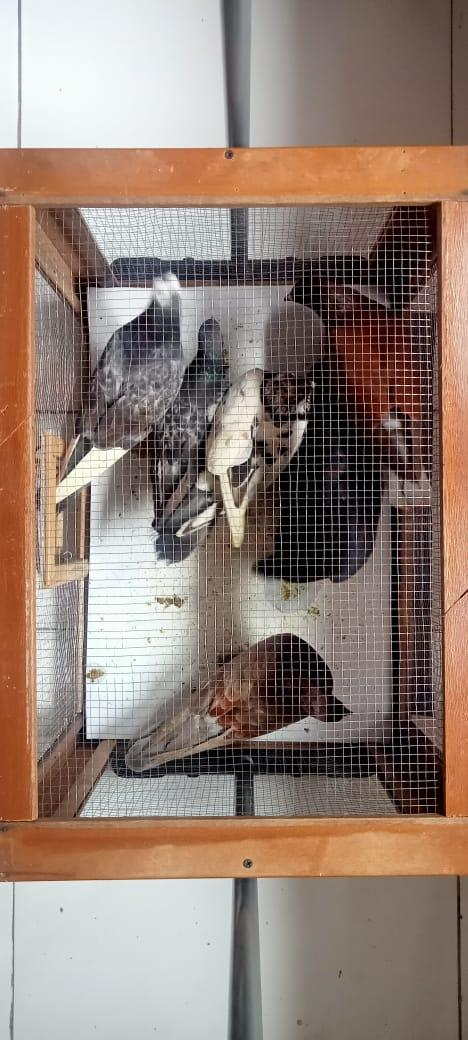Merpati: (125, 632, 353, 772), (157, 368, 318, 563), (55, 272, 187, 505), (257, 362, 386, 584), (284, 275, 423, 481), (154, 315, 228, 531)
